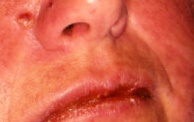SJS-TEN: (28, 72, 157, 122)
